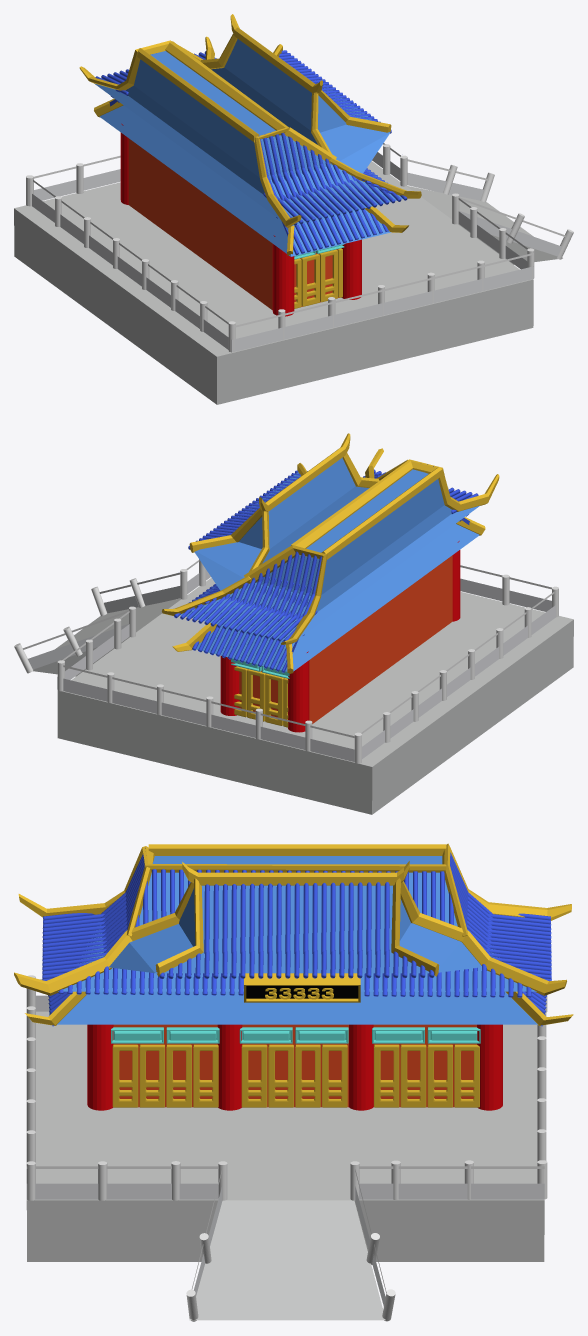
3 renders of one model, top to bottom at view 1: azimuth 30°, elevation 25°; view 2: azimuth 150°, elevation 25°; view 3: azimuth 270°, elevation 25°, orthographic. The views are drawn at different scales.
Visible parts, largest first — view 1: 平面, 立方體.001, 立方體.006, 平面.007, 立方體.005, Nurbs路徑.007, 平面.008, 立方體.014, Nurbs路徑.010, 平面.006, Nurbs路徑.008, Nurbs路徑.009 (+6 smaller); view 2: 平面, 立方體.001, 立方體.005, 立方體.006, 平面.007, Nurbs路徑.005, 立方體.011, 平面.008, Nurbs路徑.006, Nurbs路徑.004, Nurbs路徑.003, 圓柱體.003 (+6 smaller); view 3: 平面, 立方體.001, 立方體.005, 立方體.006, Nurbs路徑, 平面.007, 立方體.002, 立方體.004, 立方體.009, Nurbs路徑.011, Nurbs路徑.001, Nurbs路徑.007 (+16 smaller).
Boxes of the visible parts, bbox=[...] form: 平面: bbox=[14, 161, 562, 404]; 立方體.001: bbox=[94, 39, 402, 256]; 立方體.006: bbox=[128, 138, 338, 309]; 平面.007: bbox=[32, 152, 561, 352]; 立方體.005: bbox=[79, 14, 421, 256]; Nurbs路徑.007: bbox=[263, 178, 407, 225]; 平面.008: bbox=[33, 143, 565, 327]; 立方體.014: bbox=[294, 248, 342, 308]; Nurbs路徑.010: bbox=[281, 209, 388, 255]; 平面.006: bbox=[272, 235, 294, 316]; Nurbs路徑.008: bbox=[267, 162, 356, 218]; Nurbs路徑.009: bbox=[258, 132, 333, 183]; 平面: bbox=[33, 577, 573, 814]; 立方體.001: bbox=[180, 457, 479, 671]; 立方體.005: bbox=[162, 433, 499, 673]; 立方體.006: bbox=[239, 555, 452, 723]; 平面.007: bbox=[28, 570, 555, 761]; Nurbs路徑.005: bbox=[174, 596, 317, 641]; 立方體.011: bbox=[234, 666, 288, 727]; 平面.008: bbox=[23, 560, 554, 737]; Nurbs路徑.006: bbox=[192, 626, 298, 672]; Nurbs路徑.004: bbox=[225, 576, 314, 635]; Nurbs路徑.003: bbox=[246, 551, 321, 606]; 圓柱體.003: bbox=[355, 607, 531, 763]; 平面: bbox=[26, 1011, 544, 1320]; 立方體.001: bbox=[49, 856, 537, 1024]; 立方體.005: bbox=[14, 843, 573, 1025]; 立方體.006: bbox=[113, 1024, 476, 1107]; Nurbs路徑: bbox=[204, 882, 389, 954]; 平面.007: bbox=[26, 995, 544, 1306]; 立方體.002: bbox=[241, 1044, 347, 1107]; 立方體.004: bbox=[374, 1044, 479, 1107]; 立方體.009: bbox=[112, 1044, 218, 1107]; Nurbs路徑.011: bbox=[58, 963, 531, 997]; Nurbs路徑.001: bbox=[159, 950, 434, 978]; Nurbs路徑.007: bbox=[42, 913, 106, 980].
Size of the model in its own units: 6958 by 3830 by 6282.
